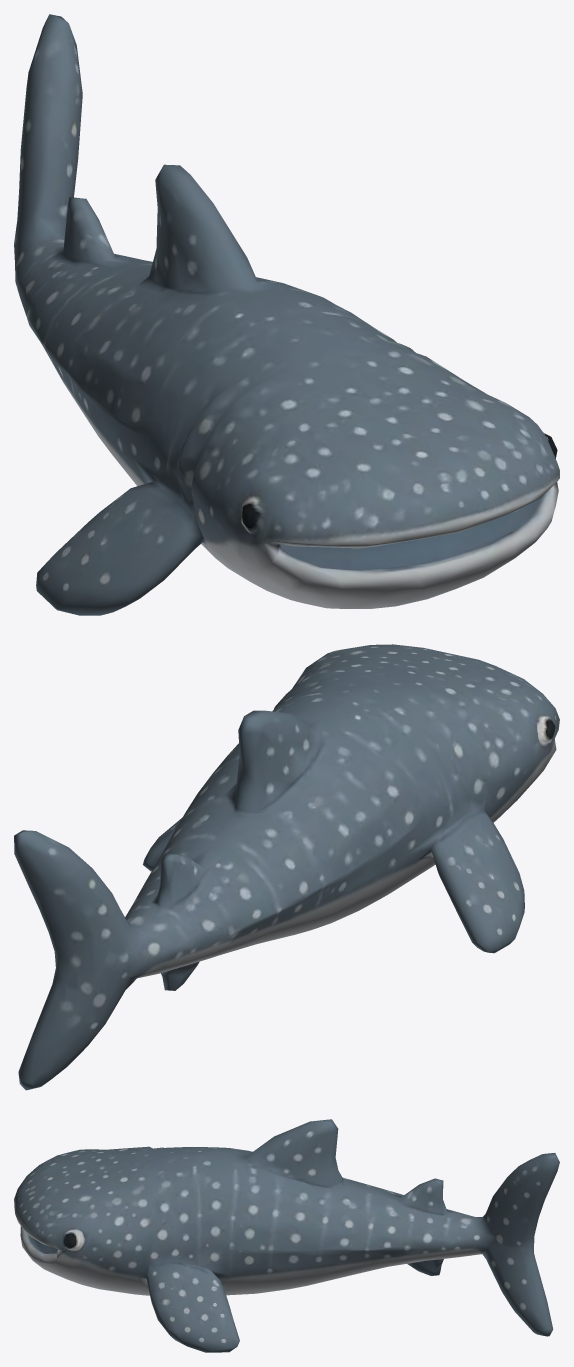
File: fish-whale-shark.glb
The picture shows the model from 3 angles, top to bottom: view 1: azimuth 30°, elevation 25°; view 2: azimuth 150°, elevation 25°; view 3: azimuth 270°, elevation 25°; orthographic projection. The views are drawn at different scales.
Parts seen in each view (by area): view 1: tripo_node_ed4e4856-d7b5-46ed-9c7e-2ab861d0519e; view 2: tripo_node_ed4e4856-d7b5-46ed-9c7e-2ab861d0519e; view 3: tripo_node_ed4e4856-d7b5-46ed-9c7e-2ab861d0519e.
Boxes of the visible parts, x1,y1,x2,y2 form: tripo_node_ed4e4856-d7b5-46ed-9c7e-2ab861d0519e: [14, 14, 559, 615]; tripo_node_ed4e4856-d7b5-46ed-9c7e-2ab861d0519e: [14, 644, 559, 1090]; tripo_node_ed4e4856-d7b5-46ed-9c7e-2ab861d0519e: [14, 1119, 559, 1352].
Size of the model in its own units: 0.5263 by 0.3896 by 1.
Materials: 1 (1 with a texture image).
